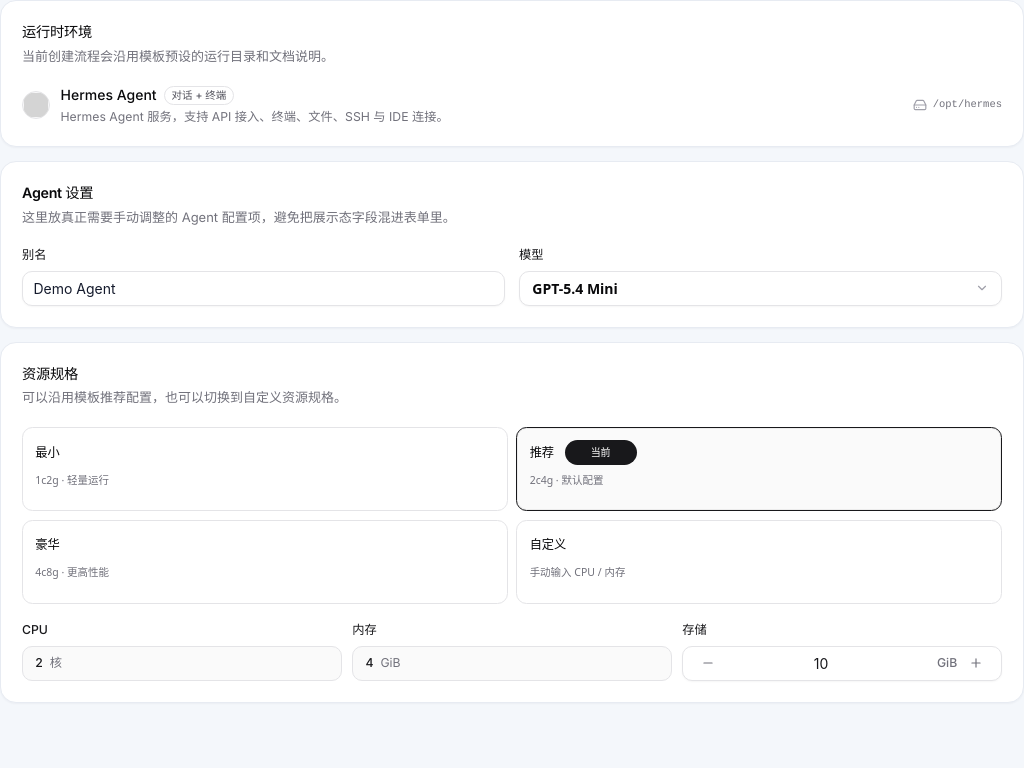
Scenario: AgentConfigForm › keeps custom model type labels while localizing default labels
The width and height of the screenshot is (1024, 768).
Click the button "GPT-5.4 Mini" at (575, 288), box [519,271,1002,306]
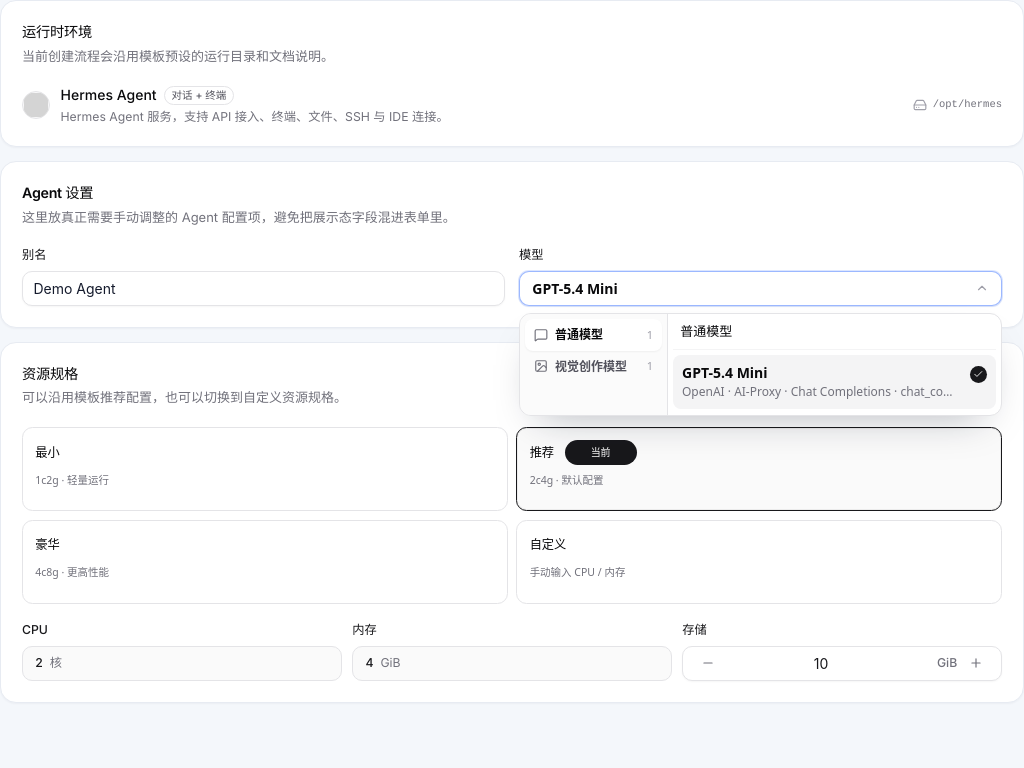
Expected: the 1st text "普通模型" is shown, [555,326,603,343]
Expected: the text "视觉创作模型" is shown, [555,358,640,375]
